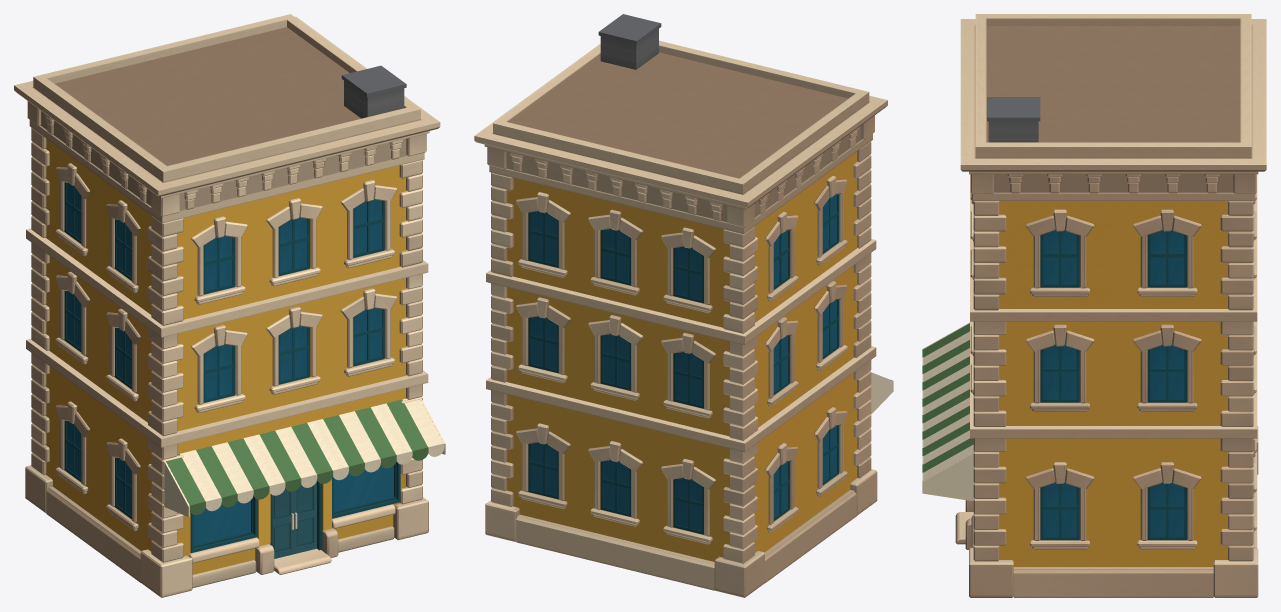
File: houdini_yellow_shop.glb
3 views of the same model, side by side, from view 1: azimuth 30°, elevation 25°; view 2: azimuth 150°, elevation 25°; view 3: azimuth 270°, elevation 25° (orthographic). The views are drawn at different scales.
Visible parts, largest first — view 1: LOD0; view 2: LOD0; view 3: LOD0.
Part boxes in pixels (x1=…): LOD0: x1=14, y1=14, x2=445, y2=597; LOD0: x1=474, y1=14, x2=893, y2=597; LOD0: x1=922, y1=14, x2=1266, y2=597.
Size of what is drawn, in the model's own units: 9.66 by 14.62 by 9.63.
5 materials, 5 textured.
